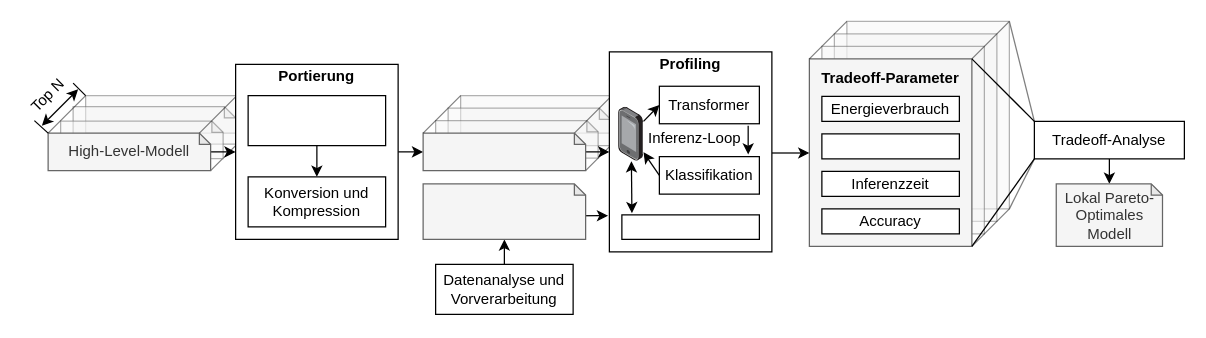
Some shapes in this 1206 by 338 pixel diagram are drawn without their labels. The centre of each missing label's shape, as x and y in pixels:
Einfrieren der Modellparameter: the point at 316,120
Komprimiertes Modell: the point at 504,151
Parametrisierung Yeo-Johnson-Transformer: the point at 504,211
Profiler: the point at 690,226
Speicherverbrauch: the point at 890,146
